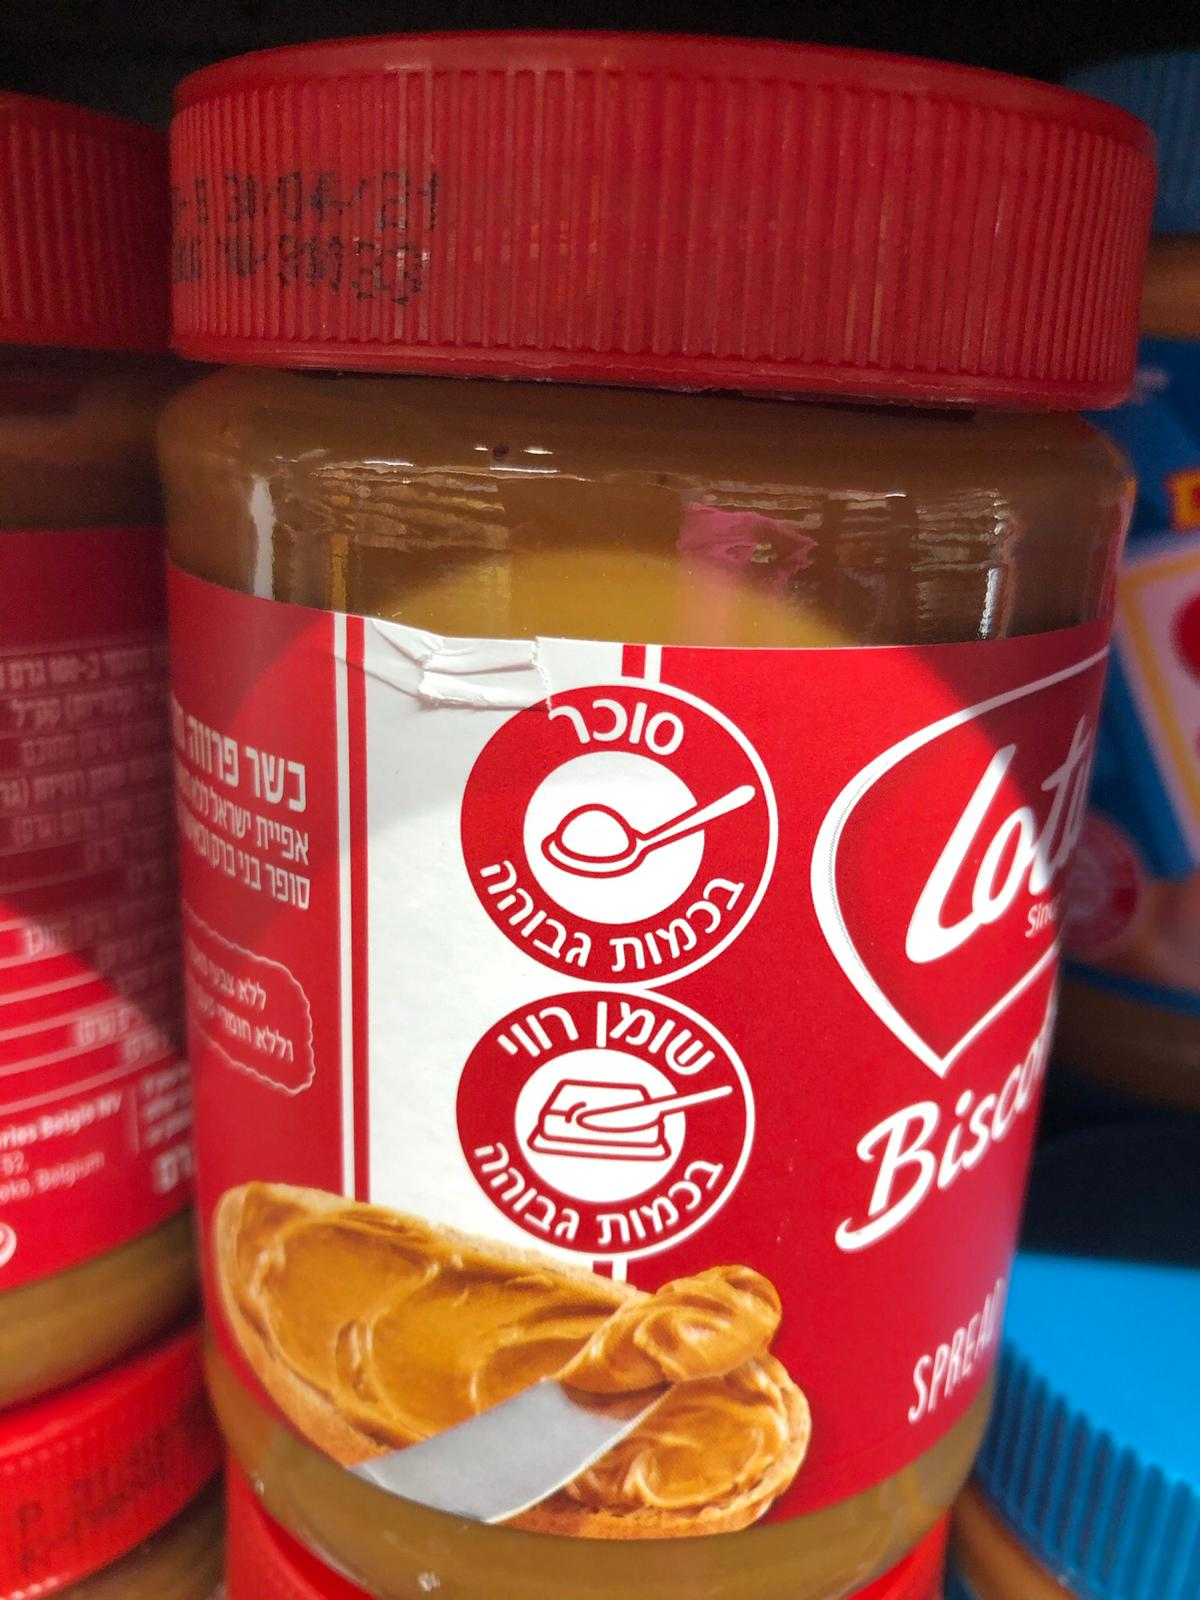fat: (447, 986, 758, 1264)
sugar: (458, 677, 776, 986)
